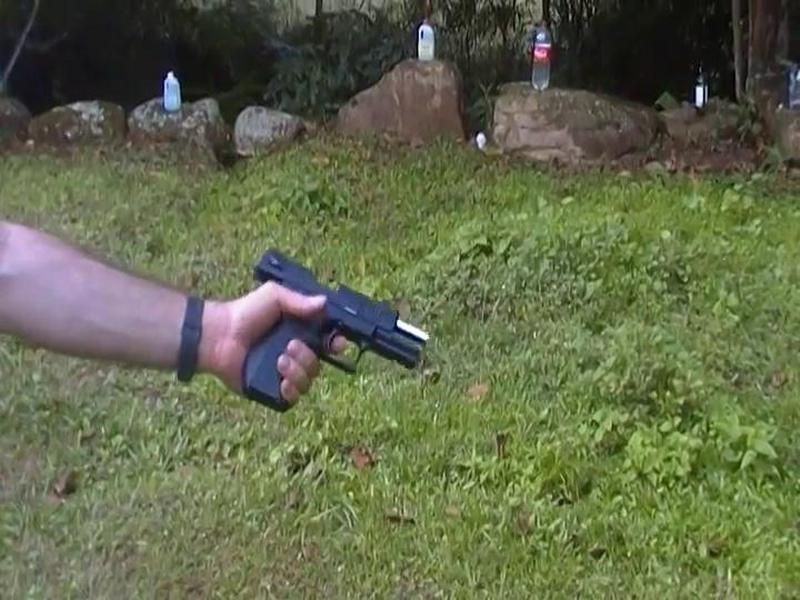Pistola: (203, 246, 458, 417)
